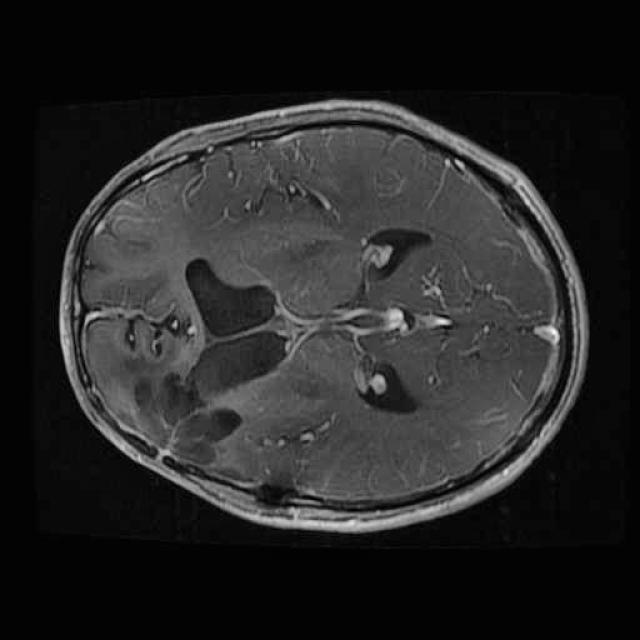Tumor: (102, 339, 250, 491)
